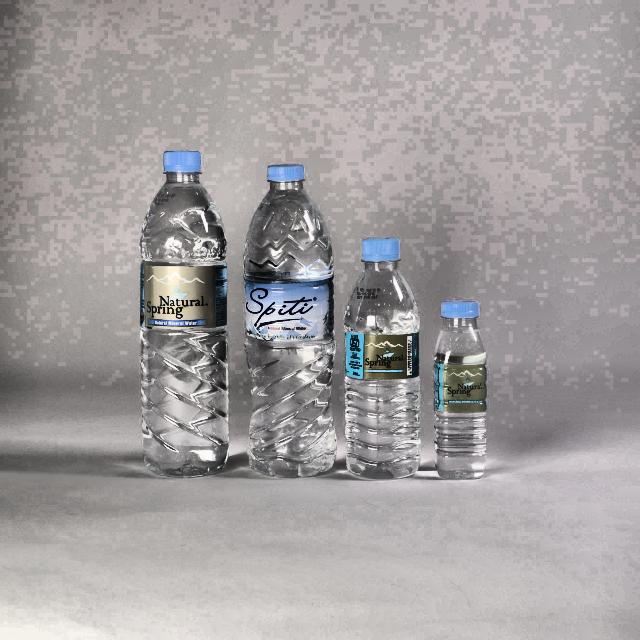plastic bottle: (244, 164, 336, 478), (140, 151, 228, 477), (344, 238, 421, 480), (435, 301, 487, 480)
